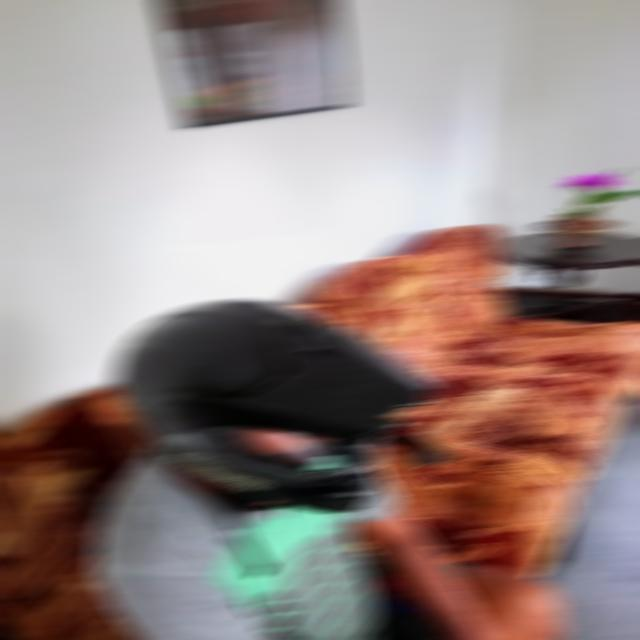With Helmet: (112, 296, 436, 512)
